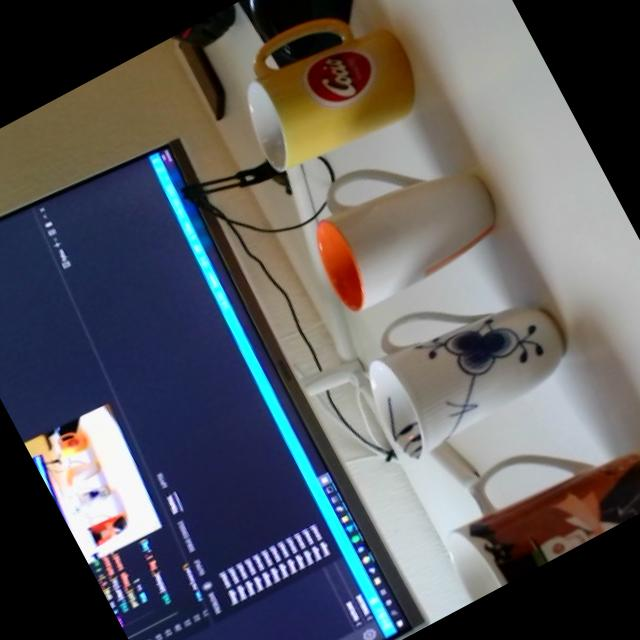Cocio Cup: (212, 0, 433, 185)
Halloween cup: (421, 398, 640, 602)
Hand painted cup: (336, 250, 586, 470)
White Cup: (284, 116, 512, 322)
